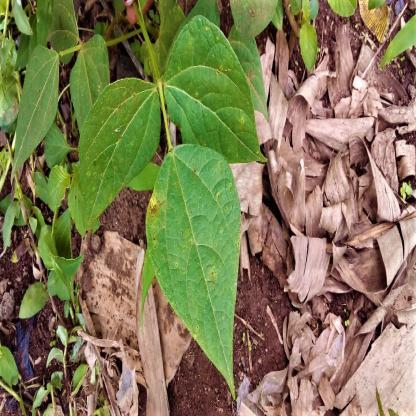Beans_Rust: (141, 147, 246, 362), (161, 14, 258, 158), (81, 80, 158, 235)
